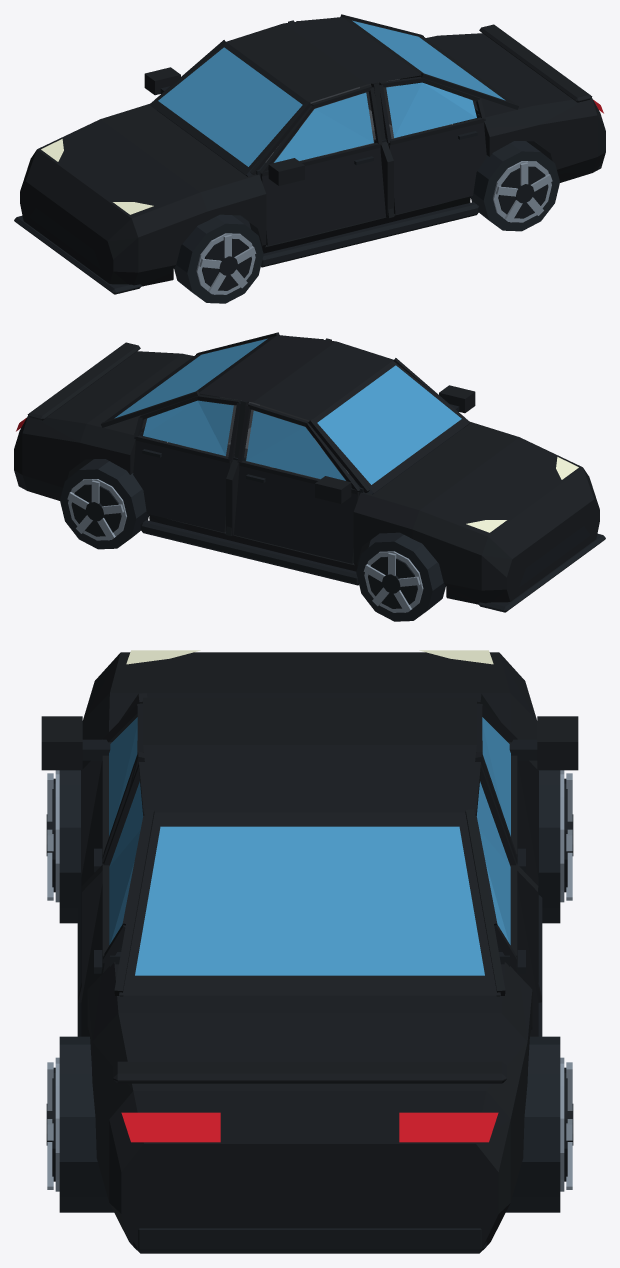
The model's file is tesla_model3_sport_r2.glb.
The picture shows the model from 3 angles, top to bottom: view 1: azimuth 30°, elevation 25°; view 2: azimuth 150°, elevation 25°; view 3: azimuth 270°, elevation 25°; orthographic projection. The views are drawn at different scales.
Parts seen in each view (by area): view 1: Body shell with wheel arches, Door_Front_Left, Door_Rear_Left, Fixed roof, Front windshield, Wheel_Rear_Left, Wheel_Front_Left, Side skirt -1, Rear windshield inset, Fixed windscreen surround, Trunk lip spoiler, Front splitter (+5 smaller); view 2: Body shell with wheel arches, Door_Front_Right, Door_Rear_Right, Fixed roof, Front windshield, Wheel_Rear_Right, Wheel_Front_Right, Side skirt 1, Rear windshield inset, Fixed windscreen surround, Trunk lip spoiler, Front splitter (+5 smaller); view 3: Body shell with wheel arches, Rear windshield inset, Fixed roof, Fastback rear window surround, Trunk lip spoiler, Wheel_Rear_Left, Wheel_Rear_Right, Rear diffuser, Door_Front_Left, Door_Front_Right, Door_Rear_Left, Door_Rear_Right (+6 smaller).
Boxes of the visible parts, bbox=[...] form: Body shell with wheel arches: bbox=[20, 33, 605, 286]; Door_Front_Left: bbox=[259, 85, 385, 245]; Door_Rear_Left: bbox=[379, 76, 486, 214]; Fixed roof: bbox=[226, 17, 421, 102]; Front windshield: bbox=[158, 47, 302, 166]; Wheel_Rear_Left: bbox=[470, 141, 559, 231]; Wheel_Front_Left: bbox=[174, 214, 263, 303]; Side skirt -1: bbox=[261, 202, 479, 267]; Rear windshield inset: bbox=[352, 20, 505, 100]; Fixed windscreen surround: bbox=[149, 42, 306, 174]; Trunk lip spoiler: bbox=[479, 24, 592, 102]; Front splitter: bbox=[14, 215, 141, 294]; Body shell with wheel arches: bbox=[14, 351, 599, 604]; Door_Front_Right: bbox=[234, 403, 360, 563]; Door_Rear_Right: bbox=[133, 394, 240, 532]; Fixed roof: bbox=[198, 335, 393, 420]; Front windshield: bbox=[317, 365, 461, 484]; Wheel_Rear_Right: bbox=[60, 459, 149, 549]; Wheel_Front_Right: bbox=[356, 532, 445, 621]; Side skirt 1: bbox=[140, 520, 358, 585]; Rear windshield inset: bbox=[114, 338, 267, 418]; Fixed windscreen surround: bbox=[313, 360, 470, 492]; Trunk lip spoiler: bbox=[27, 342, 140, 420]; Front splitter: bbox=[478, 533, 605, 612]; Body shell with wheel arches: bbox=[81, 652, 538, 1253]; Rear windshield inset: bbox=[135, 826, 484, 975]; Fixed roof: bbox=[143, 697, 476, 812]; Fastback rear window surround: bbox=[119, 812, 500, 995]; Trunk lip spoiler: bbox=[113, 1061, 506, 1083]; Wheel_Rear_Left: bbox=[46, 1036, 113, 1212]; Wheel_Rear_Right: bbox=[506, 1036, 573, 1212]; Rear diffuser: bbox=[133, 1228, 486, 1250]; Door_Front_Left: bbox=[41, 703, 143, 982]; Door_Front_Right: bbox=[476, 703, 578, 982]; Door_Rear_Left: bbox=[81, 762, 149, 1036]; Door_Rear_Right: bbox=[470, 762, 538, 1036].
Bounding box in the file's own units: 4.74 × 1.5 × 2.22.
